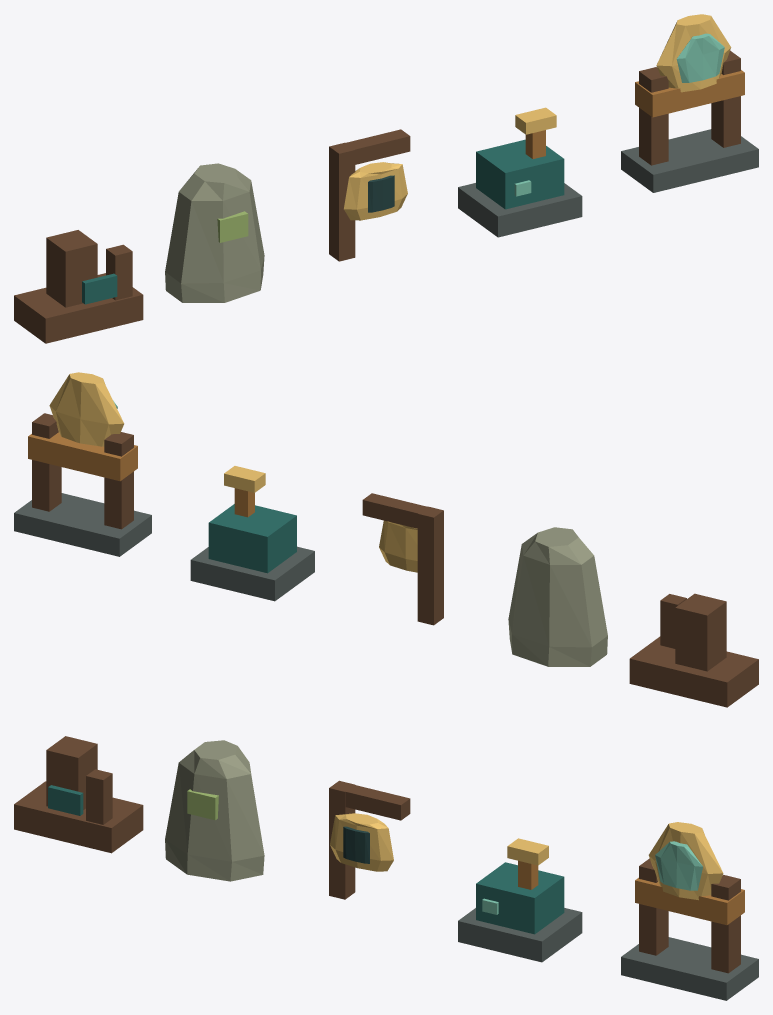
Rendered from sum-wanderer-sign-model.obj.
3 renders of one model, top to bottom at view 1: azimuth 30°, elevation 25°; view 2: azimuth 150°, elevation 25°; view 3: azimuth 330°, elevation 25°, orthographic.
Visible parts, largest first — view 1: Observation; view 2: Observation; view 3: Observation.
Boxes of the visible parts, x1,y1,x2,y2 form: Observation: [14, 14, 758, 343]; Observation: [14, 372, 758, 707]; Observation: [14, 736, 758, 1000].
Bounding box in the file's own units: 5.33 × 1.1 × 0.52.
